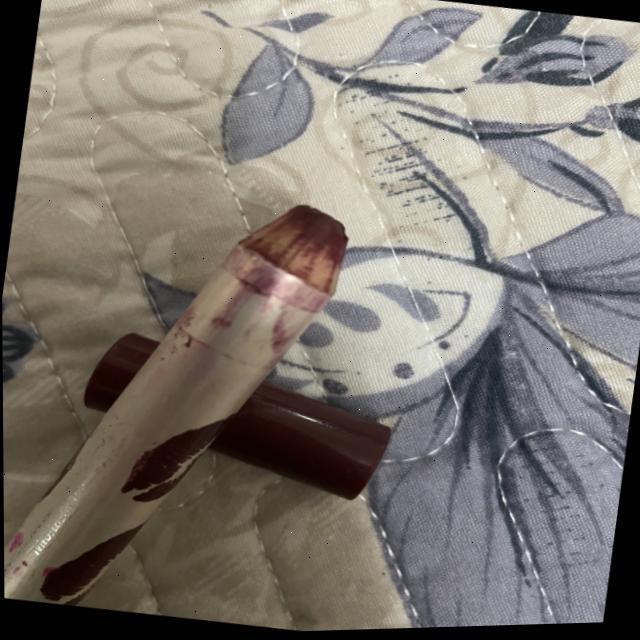lip liner: (1, 161, 356, 639)
